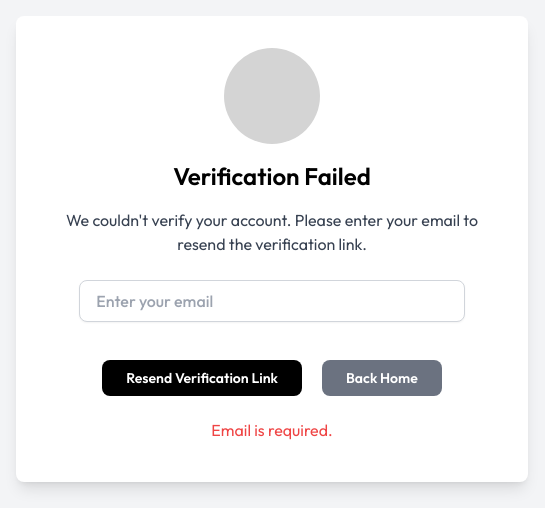
Test case: VerificationFail Component › displays error message when email input is invalid
Type "testuser@" into the field with placeholder "Enter your email".
click(272, 301); type("testuser@")  # box 79,280 -> 465,322
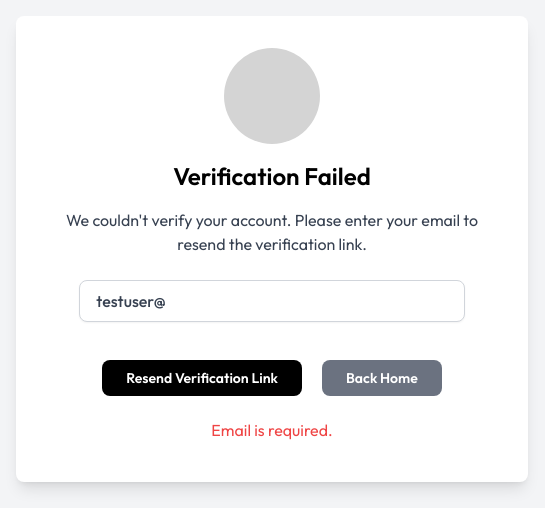
Click the button "Resend Verification Link".
click(202, 378)  # box 102,360 -> 302,396
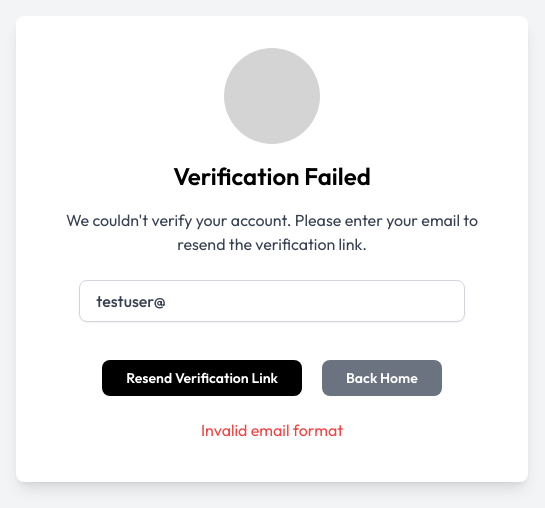
Result: the text "Invalid email format" is shown at 201,418 -> 343,442
